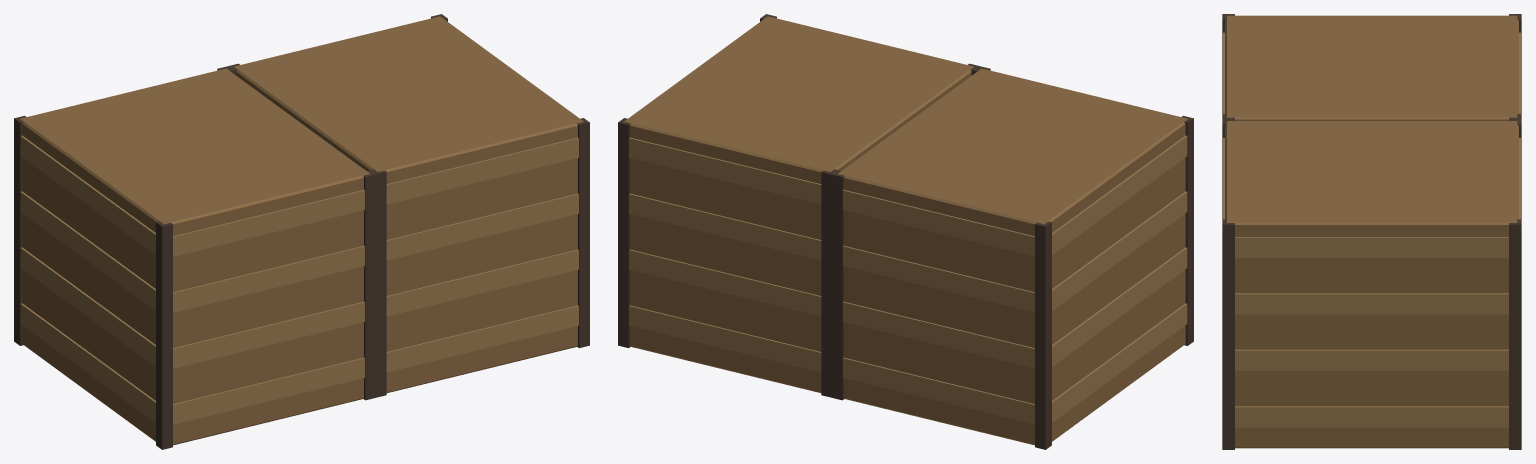
The model's file is crates_b.glb.
3 renders of one model, left to right at view 1: azimuth 30°, elevation 25°; view 2: azimuth 150°, elevation 25°; view 3: azimuth 270°, elevation 25°, orthographic.
Parts seen in each view (by area): view 1: crates_b; view 2: crates_b; view 3: crates_b.
Part boxes in pixels (x1=…): crates_b: x1=14, y1=14, x2=589, y2=449; crates_b: x1=618, y1=14, x2=1193, y2=449; crates_b: x1=1222, y1=14, x2=1521, y2=449.
Bounding box in the file's own units: 2 × 1 × 1.2.
